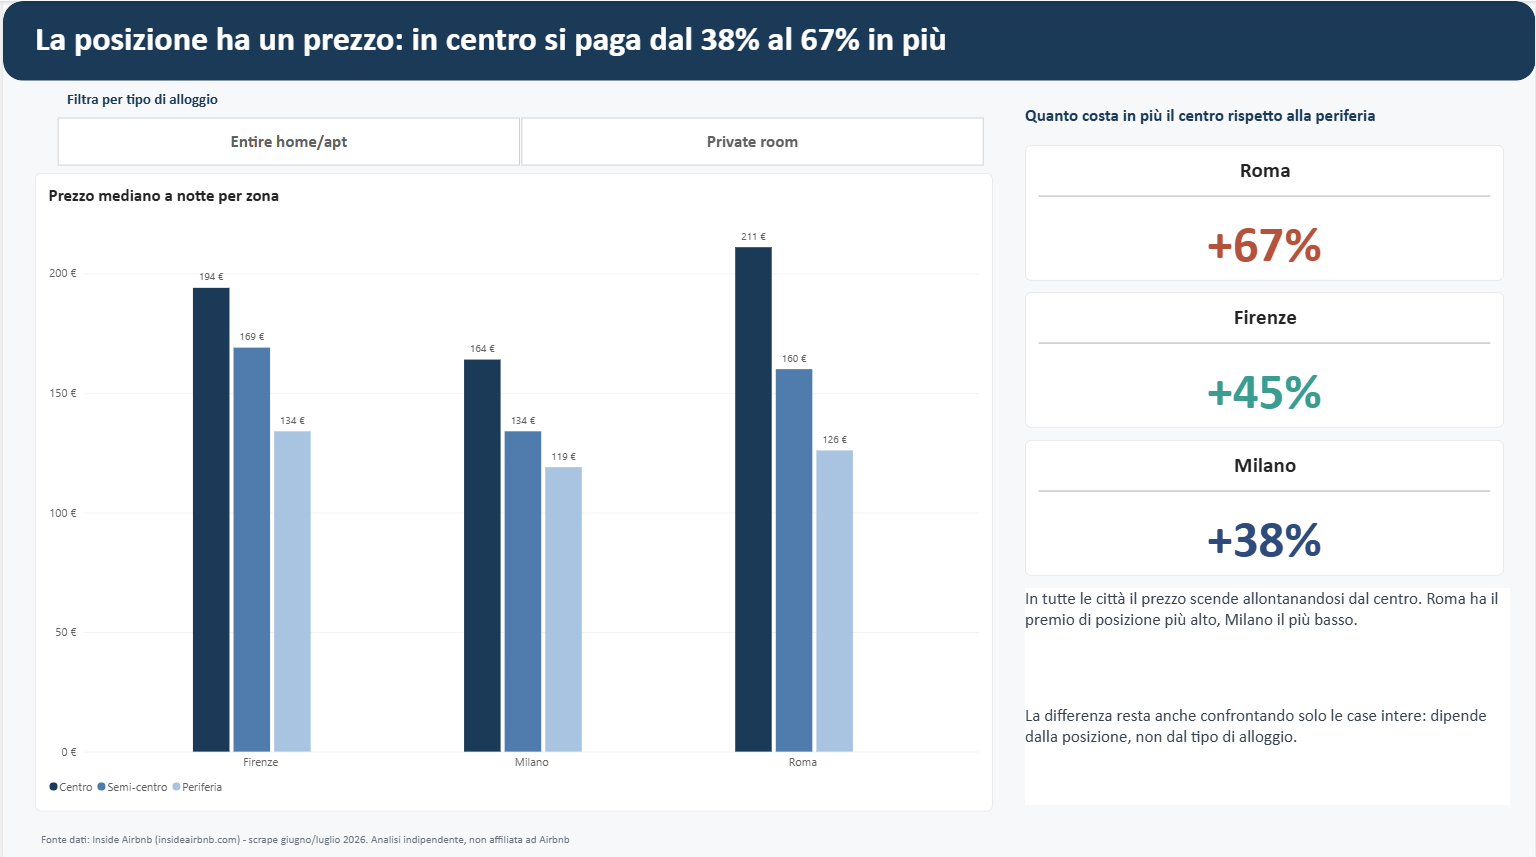

The page's visual inventory and layout, read from the dashboard file:
{"tool":"powerbi","page":{"name":"Prezzo per zona","canvas":[1920,1080],"ordinal":2},"visuals":[{"type":"clusteredColumnChart","title":"Prezzo mediano a notte per zona","fields":{"Category":["listings_totale.city"],"Series":["listings_totale.zona"],"Y":["_Measures.Median Price"]},"box":[40,215,1200,800],"z":0},{"type":"slicer","fields":{"Values":["listings_totale.room_type"]},"box":[48,144,1200,64],"z":1000},{"type":"shape","box":[0,0,1920,100],"z":2000},{"type":"textbox","box":[40,20,1840,60],"z":3000},{"type":"textbox","box":[48,1040,1200,32],"z":4000},{"type":"card","title":"Roma","fields":{"Values":["_Measures.Centre Premium %"]},"box":[1280,180,600,170],"z":5000},{"type":"card","title":"Firenze","fields":{"Values":["_Measures.Centre Premium %"]},"box":[1280,365,600,170],"z":6000},{"type":"card","title":"Milano","fields":{"Values":["_Measures.Centre Premium %"]},"box":[1280,550,600,170],"z":7000},{"type":"textbox","box":[1280,130,600,45],"z":8000},{"type":"textbox","box":[1280,736,608,272],"z":9000},{"type":"textbox","box":[80,112,400,30],"z":10000}]}

Visuals, with their boxes in screenshot pixels (x1, y1, x2, y2), scaled from the page's 1920x1080 canvas onto the 1536x857 screenshot:
"Prezzo mediano a notte per zona" clusteredColumnChart: l=32, t=171, r=992, b=805
slicer - listings_totale.room_type: l=38, t=114, r=998, b=165
shape: l=0, t=0, r=1535, b=79
textbox: l=32, t=16, r=1504, b=63
textbox: l=38, t=825, r=998, b=851
"Roma" card: l=1024, t=143, r=1504, b=278
"Firenze" card: l=1024, t=290, r=1504, b=425
"Milano" card: l=1024, t=436, r=1504, b=571
textbox: l=1024, t=103, r=1504, b=139
textbox: l=1024, t=584, r=1510, b=800
textbox: l=64, t=89, r=384, b=113
